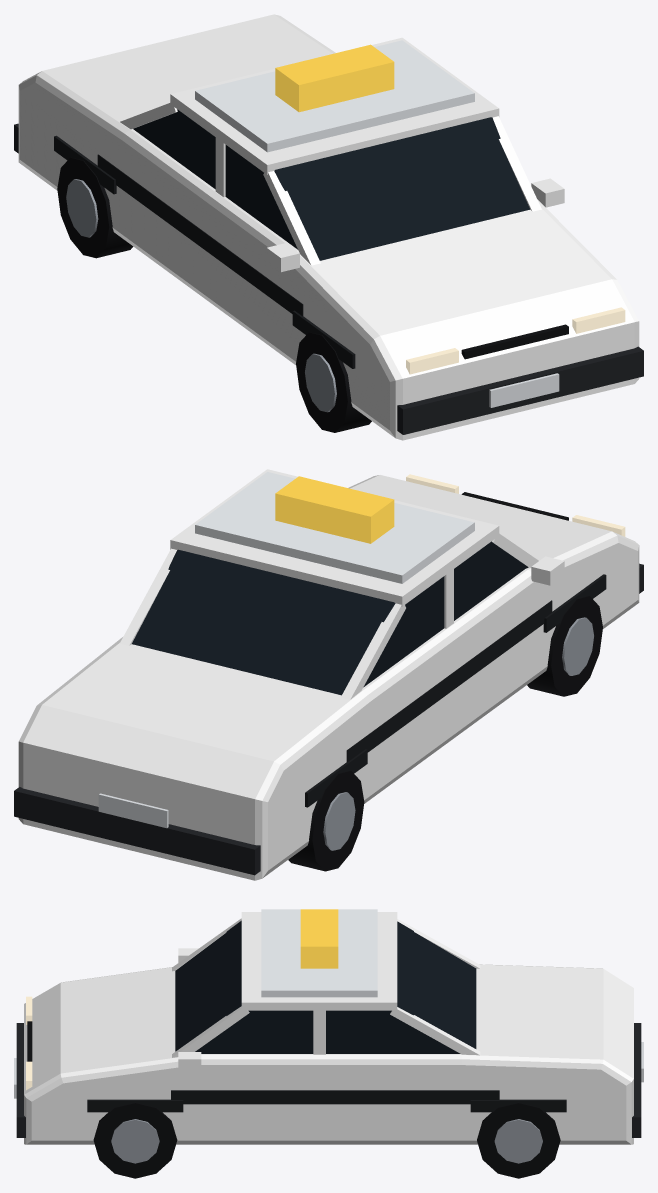
Rendered from taxi.glb.
The picture shows the model from 3 angles, top to bottom: view 1: azimuth 30°, elevation 25°; view 2: azimuth 150°, elevation 25°; view 3: azimuth 270°, elevation 25°; orthographic projection. The views are drawn at different scales.
Visible parts, largest first — view 1: paint, trim, lights; view 2: paint, trim, lights; view 3: paint, trim, lights.
Part boxes in pixels (bbox=[...]): paint: bbox=[18, 14, 639, 440]; trim: bbox=[14, 40, 643, 434]; lights: bbox=[275, 44, 625, 374]; paint: bbox=[18, 469, 639, 880]; trim: bbox=[14, 472, 643, 875]; lights: bbox=[275, 474, 625, 543]; paint: bbox=[24, 912, 633, 1144]; trim: bbox=[14, 909, 643, 1178]; lights: bbox=[26, 909, 338, 1090].
Size of the model in its own units: 2.08 by 1.75 by 4.98.
